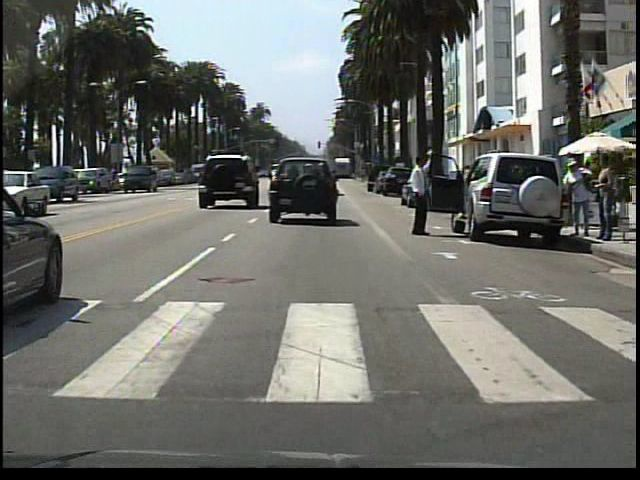person: (408, 149, 444, 246), (561, 151, 592, 243), (592, 148, 617, 246)
